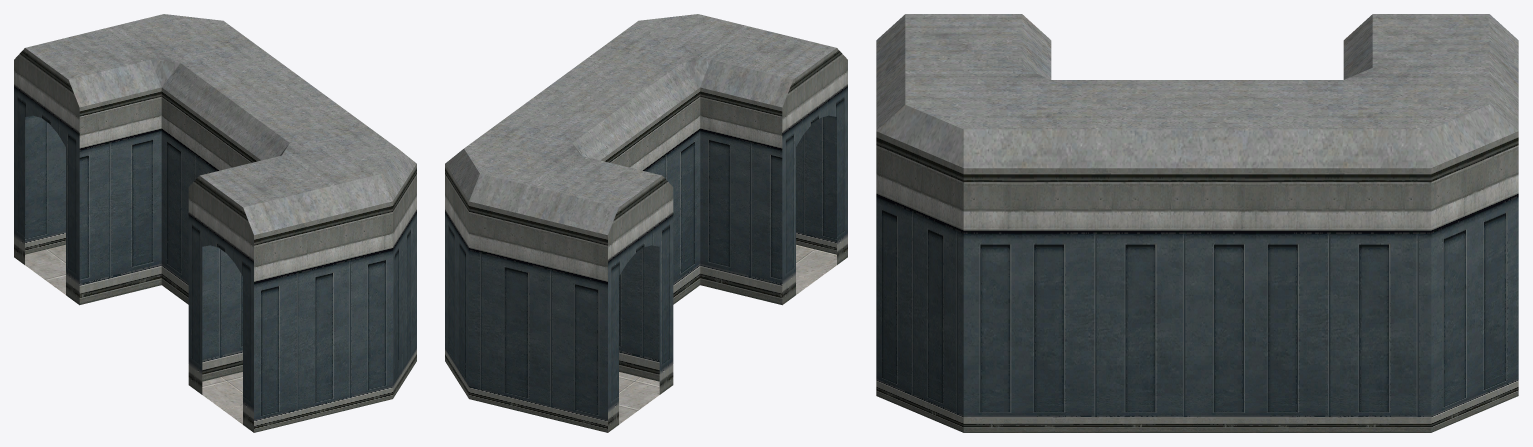
Rendered from thm_corl_imprv_slum_16x32_s01_r1_mesh_r1.fbx.
3 views of the same model, side by side, from view 1: azimuth 30°, elevation 25°; view 2: azimuth 150°, elevation 25°; view 3: azimuth 270°, elevation 25° (orthographic). The views are drawn at different scales.
Parts seen in each view (by area): view 1: mesh_node; view 2: mesh_node; view 3: mesh_node.
Part boxes in pixels (x1,y1,x2,y2): mesh_node: [14, 14, 416, 432]; mesh_node: [445, 14, 847, 432]; mesh_node: [876, 14, 1518, 432].
Bounding box in the file's own units: 4.14 × 4.4 × 8.8.
